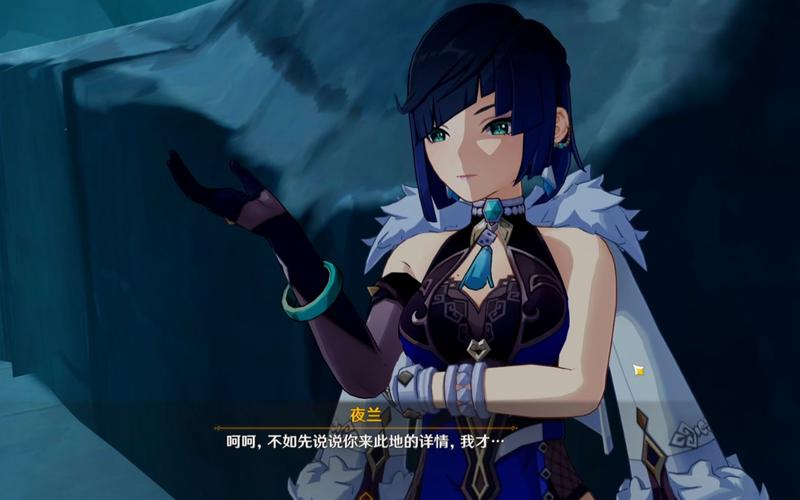夜兰: (164, 5, 620, 500)
